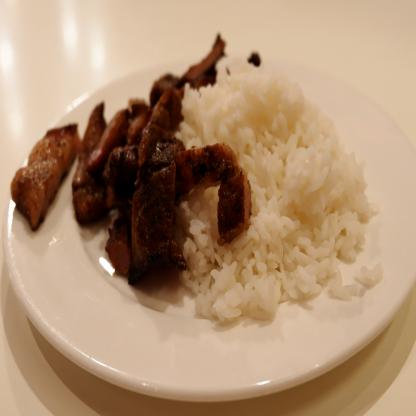Carne: (135, 57, 187, 285), (1, 114, 80, 230), (175, 133, 239, 230), (68, 109, 116, 208)
